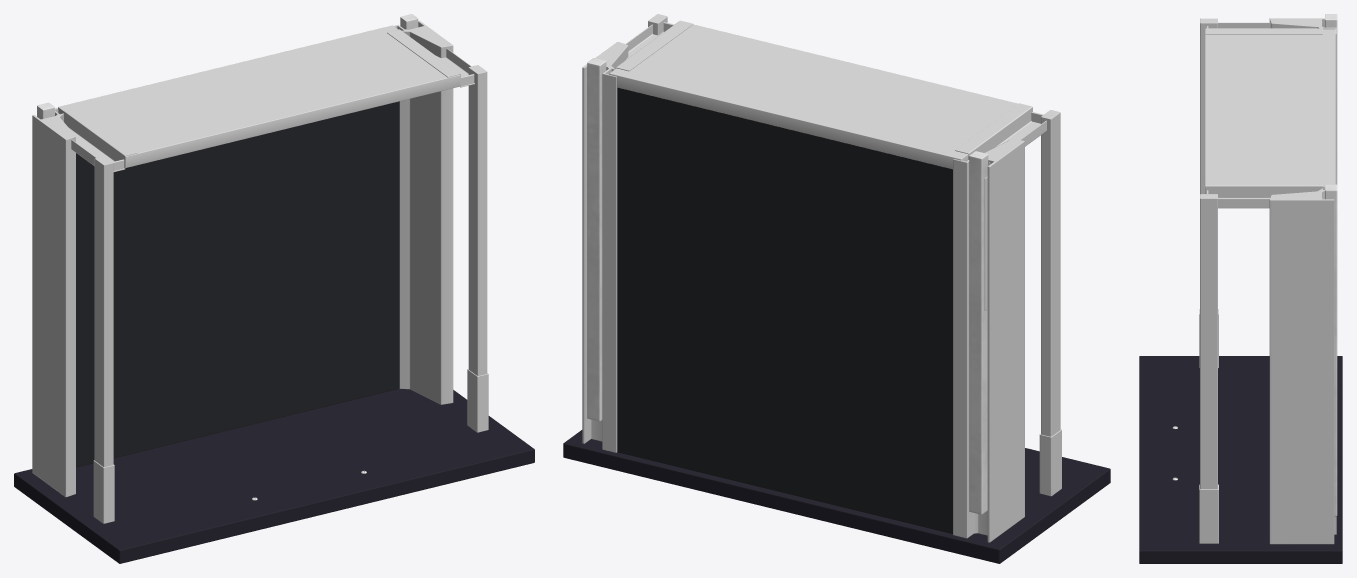
File: SM_Kitchen_09_Drawer_02.obj
3 views of the same model, side by side, from view 1: azimuth 30°, elevation 25°; view 2: azimuth 150°, elevation 25°; view 3: azimuth 270°, elevation 25° (orthographic). The views are drawn at different scales.
Parts seen in each view (by area): view 1: SM_Kitchen_05_Base_Drawer_02; view 2: SM_Kitchen_05_Base_Drawer_02; view 3: SM_Kitchen_05_Base_Drawer_02.
Boxes of the visible parts, <box> form: SM_Kitchen_05_Base_Drawer_02: <box>14,14,534,563</box>; SM_Kitchen_05_Base_Drawer_02: <box>563,14,1110,563</box>; SM_Kitchen_05_Base_Drawer_02: <box>1139,14,1342,563</box>.
Size of the model in its own units: 0.5969 by 0.5199 by 0.263.
4 materials, 4 textured.
